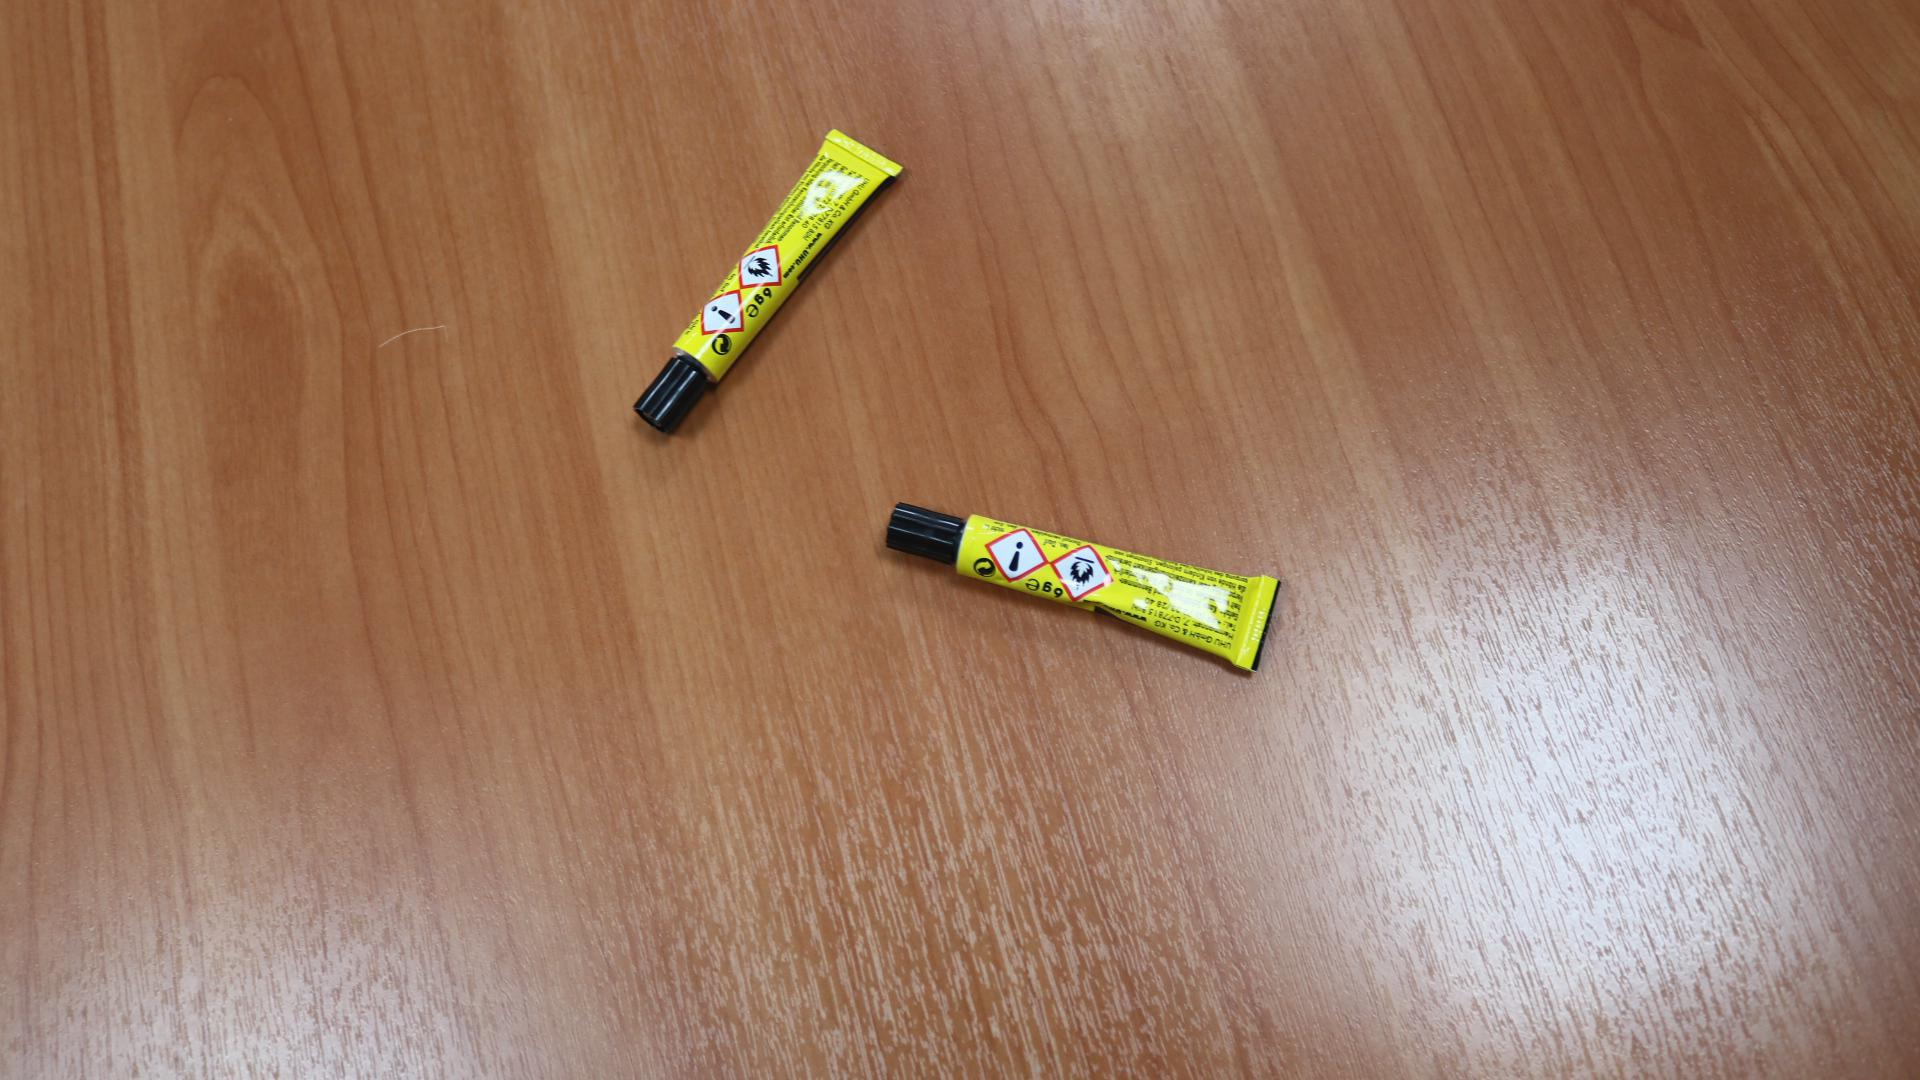Head: (921, 526, 931, 535), (668, 387, 677, 396)
Tail: (1253, 616, 1265, 627), (859, 148, 869, 157)
Tube: (632, 127, 906, 435), (884, 502, 1283, 676)
